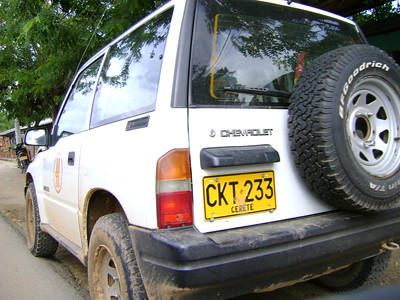placa_carro: (199, 170, 277, 222)
